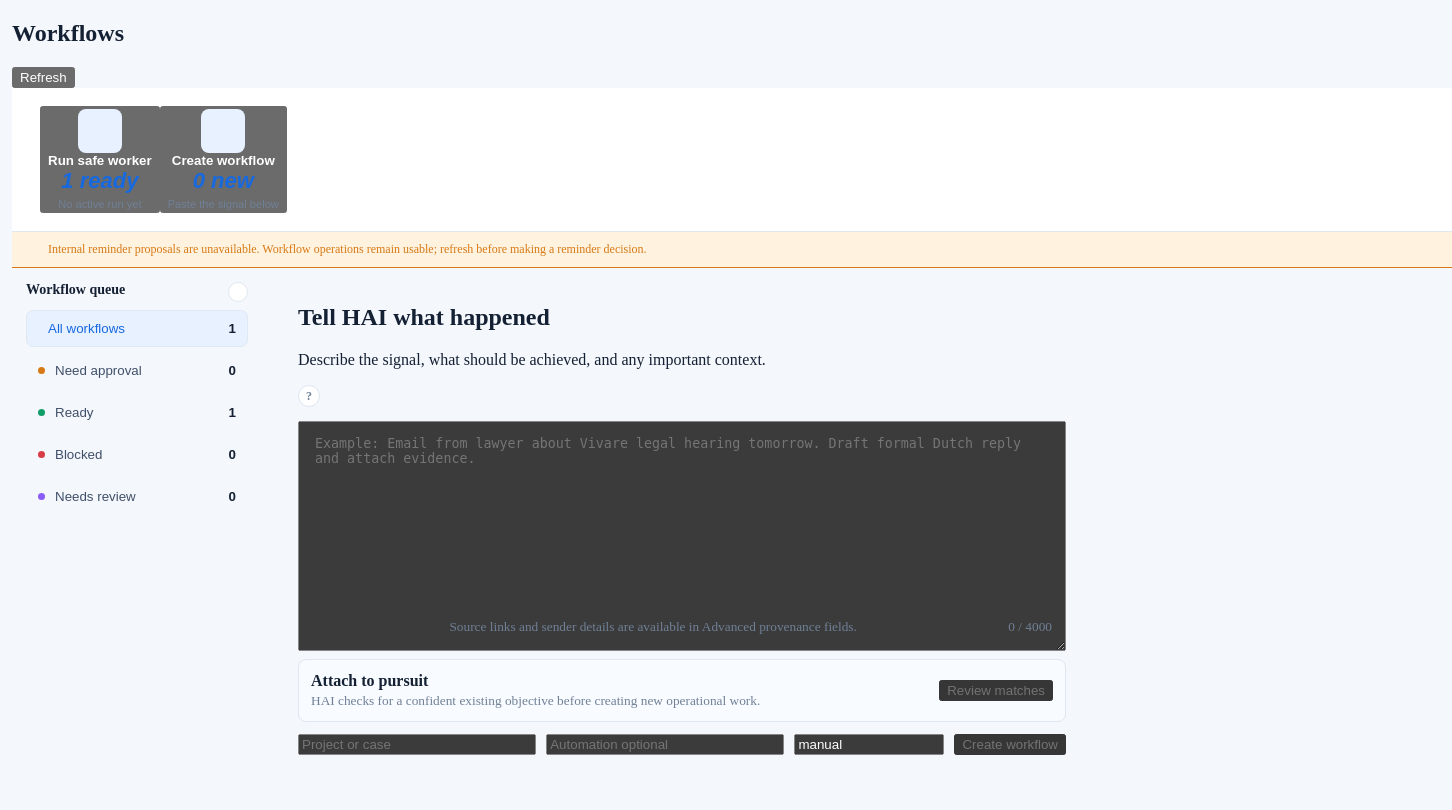
Test: WorkflowEngineComponent progressive disclosure › keeps intake, worker action, and reminder failure visible while persisting advanced disclosures
Expected: the element with class "action-strip" is shown, top-left (12, 88), bottom-right (1451, 232)
Expected: the text box with id "workflow-intake-input" is shown, top-left (298, 421), bottom-right (1066, 651)
Step 1. Click the button with test id "workflow-run-worker" → (100, 159), box top-left (40, 106), bottom-right (160, 213)
(page scrolled)
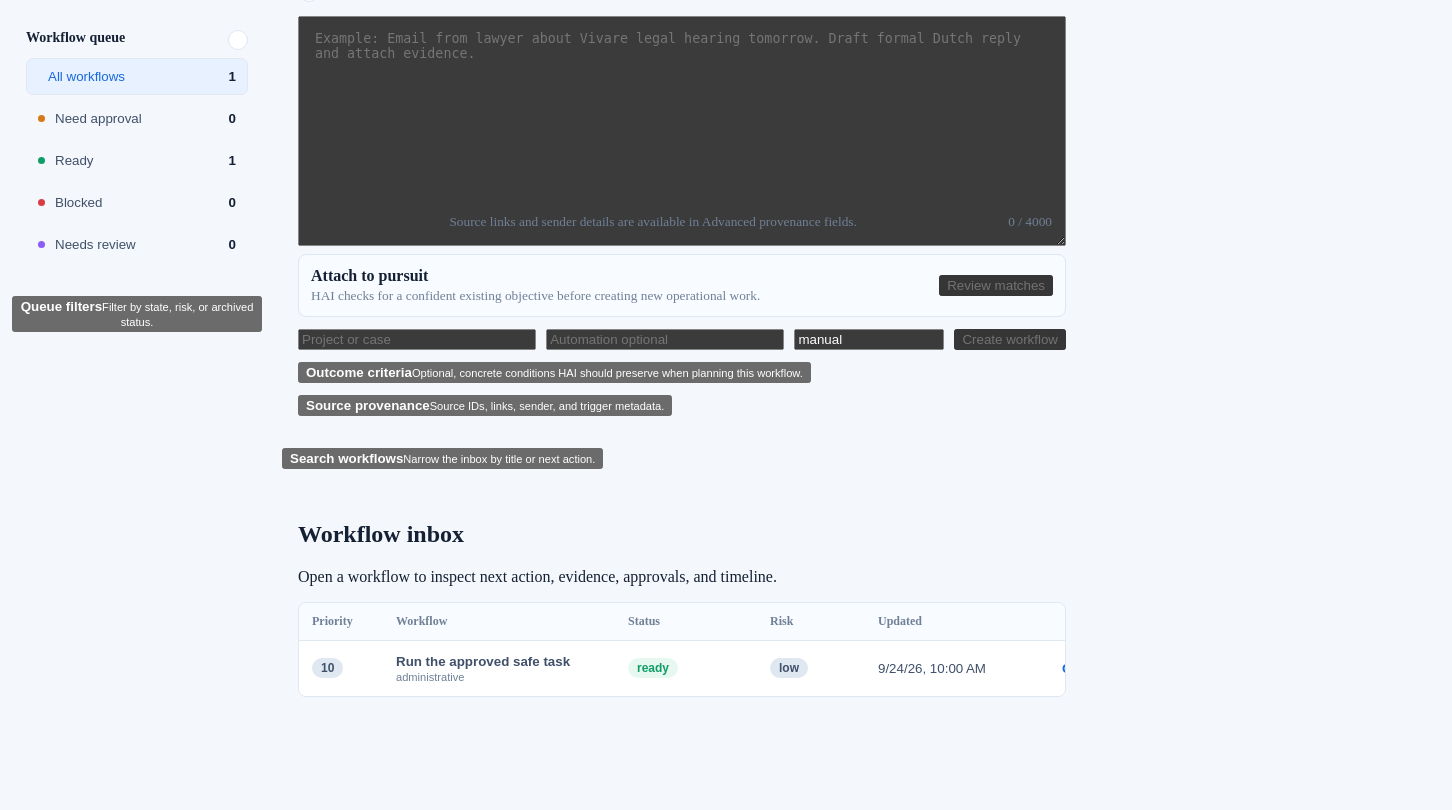
Now the element named "Source provenance" is shown
Now the element with class "hai-progressive-section--advanced" that starts with "Source provenance" is shown
Step 2. Click the button that starts with "Source provenance" → (485, 405), box top-left (298, 395), bottom-right (672, 416)
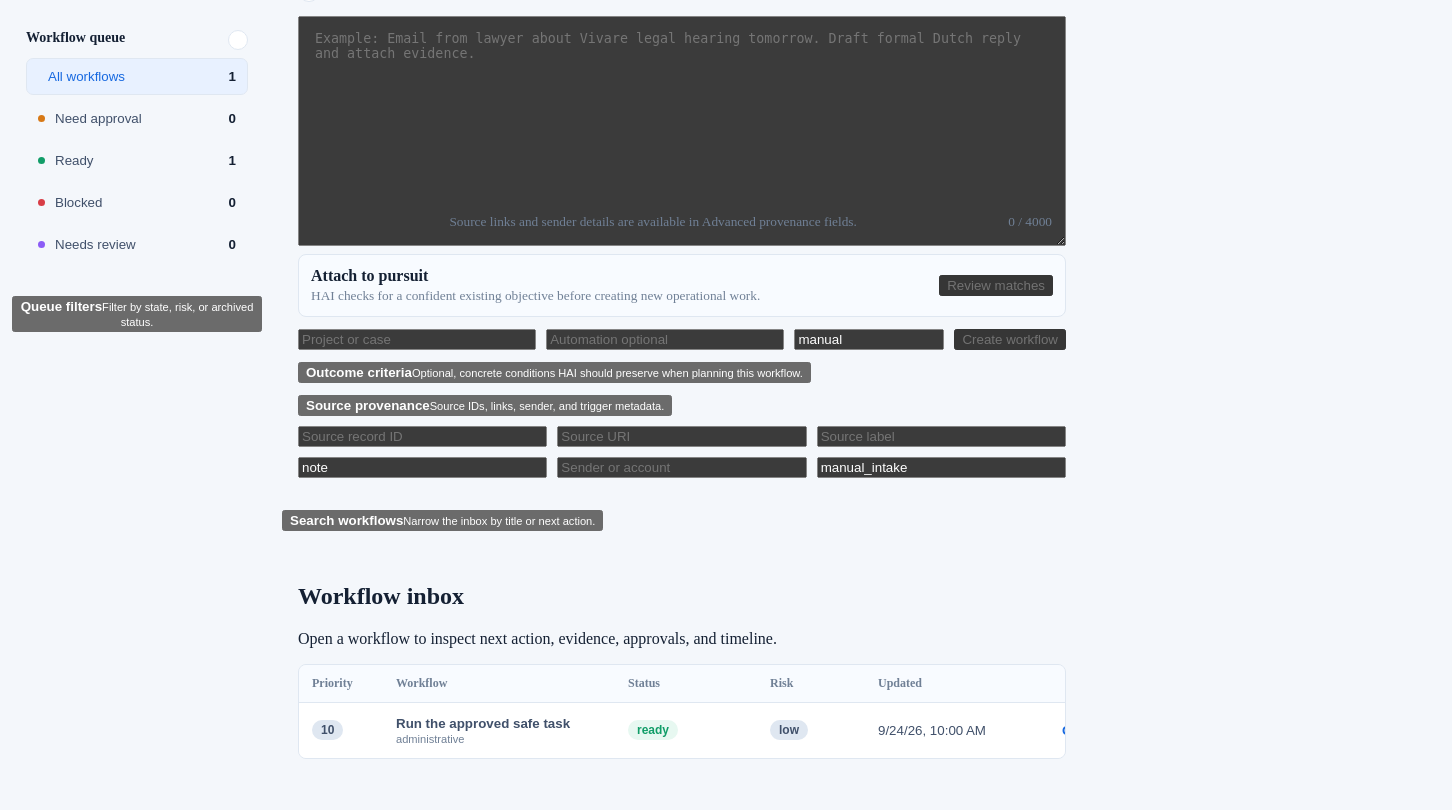
Now the element with class "hai-progressive-section__content" is shown, box top-left (298, 416), bottom-right (1066, 478)
